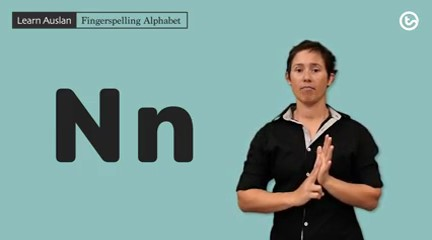N: (285, 129, 344, 212)
